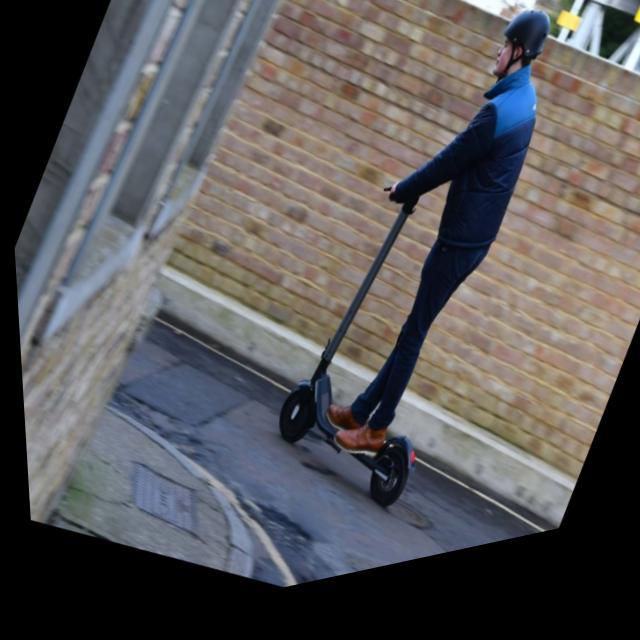Helmet: (488, 0, 558, 95)
